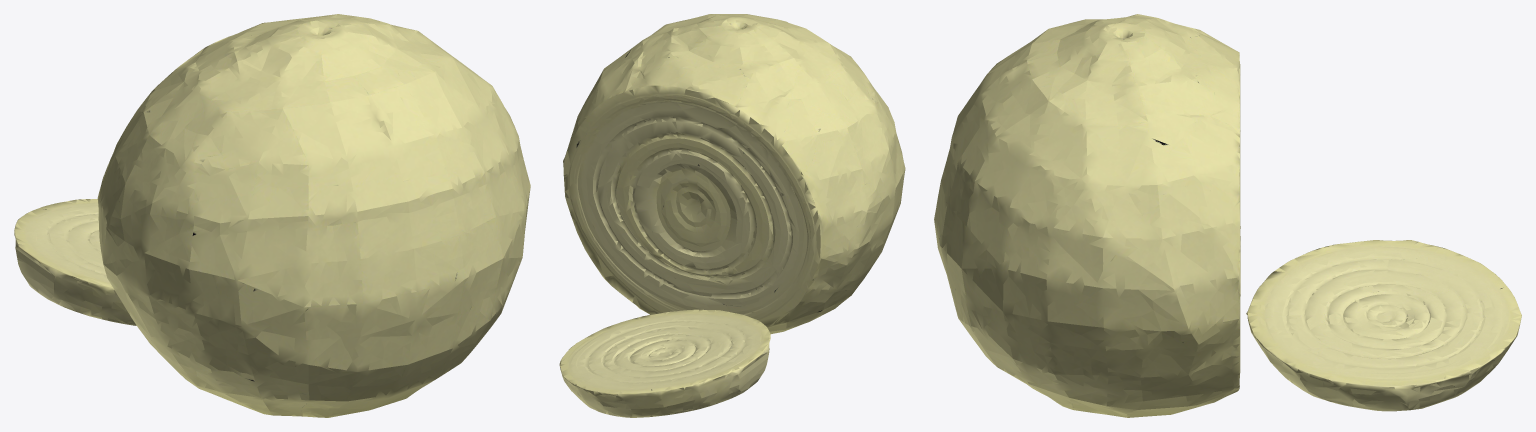
The model's file is new_onion_2.fbx.
3 views of the same model, side by side, from view 1: azimuth 30°, elevation 25°; view 2: azimuth 150°, elevation 25°; view 3: azimuth 270°, elevation 25° (orthographic). The views are drawn at different scales.
Visible parts, largest first — view 1: tripo_node_51b20f70; view 2: tripo_node_51b20f70; view 3: tripo_node_51b20f70.
Boxes of the visible parts, x1,y1,x2,y2 form: tripo_node_51b20f70: [14, 14, 530, 417]; tripo_node_51b20f70: [559, 14, 905, 417]; tripo_node_51b20f70: [934, 14, 1521, 417].
Bounding box in the file's own units: 71.08 × 66.84 × 98.01.
Materials: 1 (1 with a texture image).
